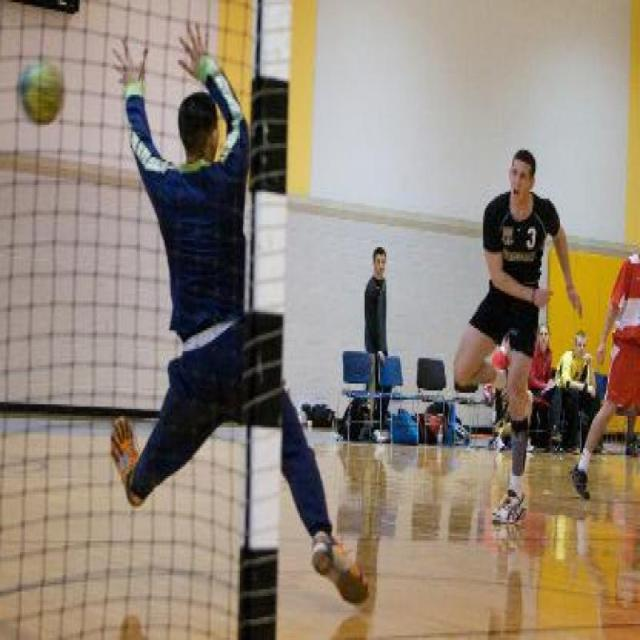volleyball: (18, 58, 64, 122)
